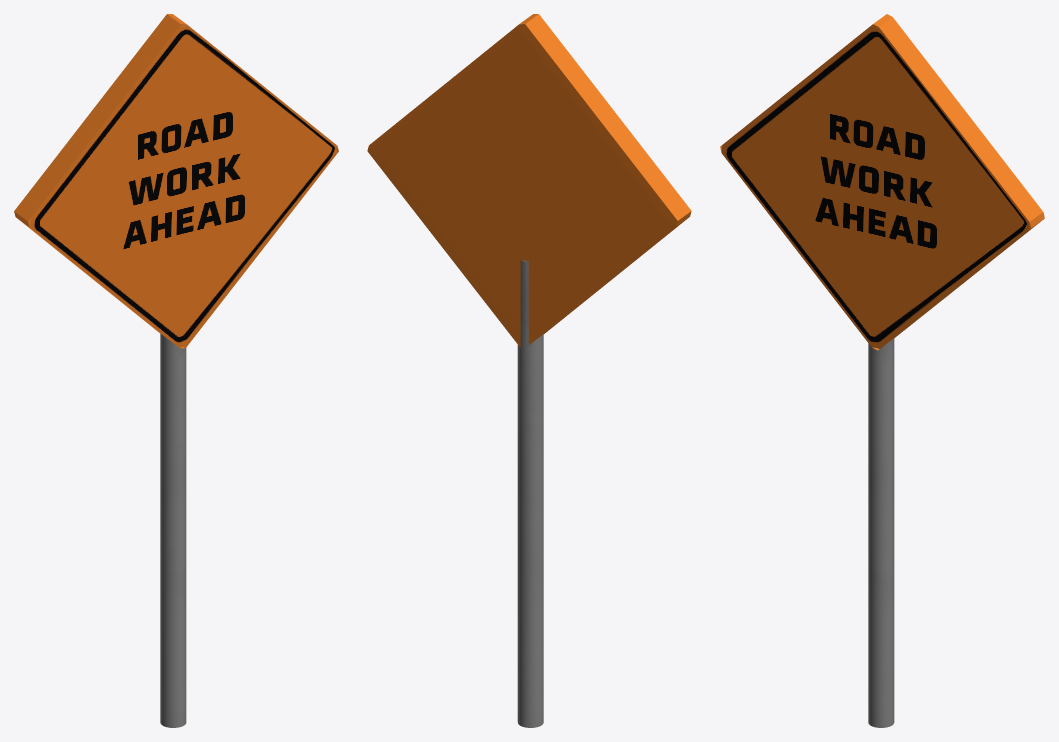
Rendered from RoadWork_Signs (1).fbx.
3 renders of one model, left to right at view 1: azimuth 30°, elevation 25°; view 2: azimuth 150°, elevation 25°; view 3: azimuth 330°, elevation 25°, orthographic.
Parts seen in each view (by area): view 1: RoadWork_Sign, Pole4; view 2: RoadWork_Sign, Pole4; view 3: RoadWork_Sign, Pole4.
Part boxes in pixels (x1,y1,x2,y2): RoadWork_Sign: [14, 14, 338, 348]; Pole4: [160, 333, 186, 727]; RoadWork_Sign: [367, 14, 691, 347]; Pole4: [517, 260, 543, 727]; RoadWork_Sign: [720, 14, 1044, 350]; Pole4: [868, 338, 894, 727].
Size of the model in its own units: 4.6 by 9.95 by 0.3701.
